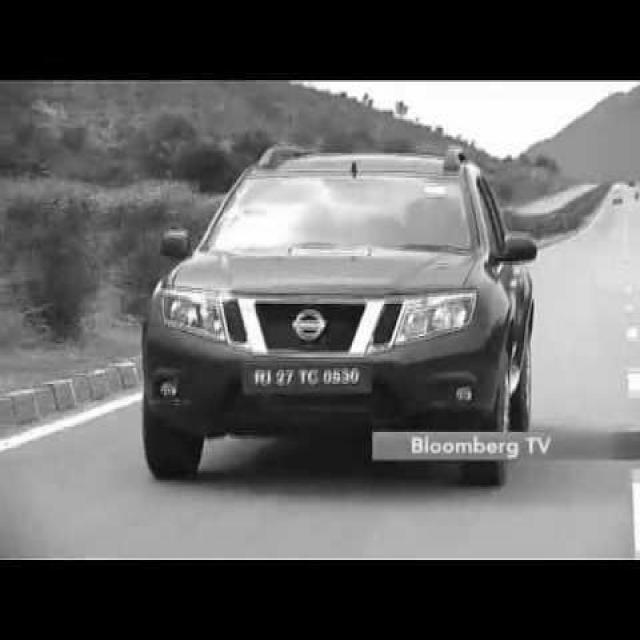car: (135, 149, 541, 496)
license-plate: (243, 359, 372, 398)
